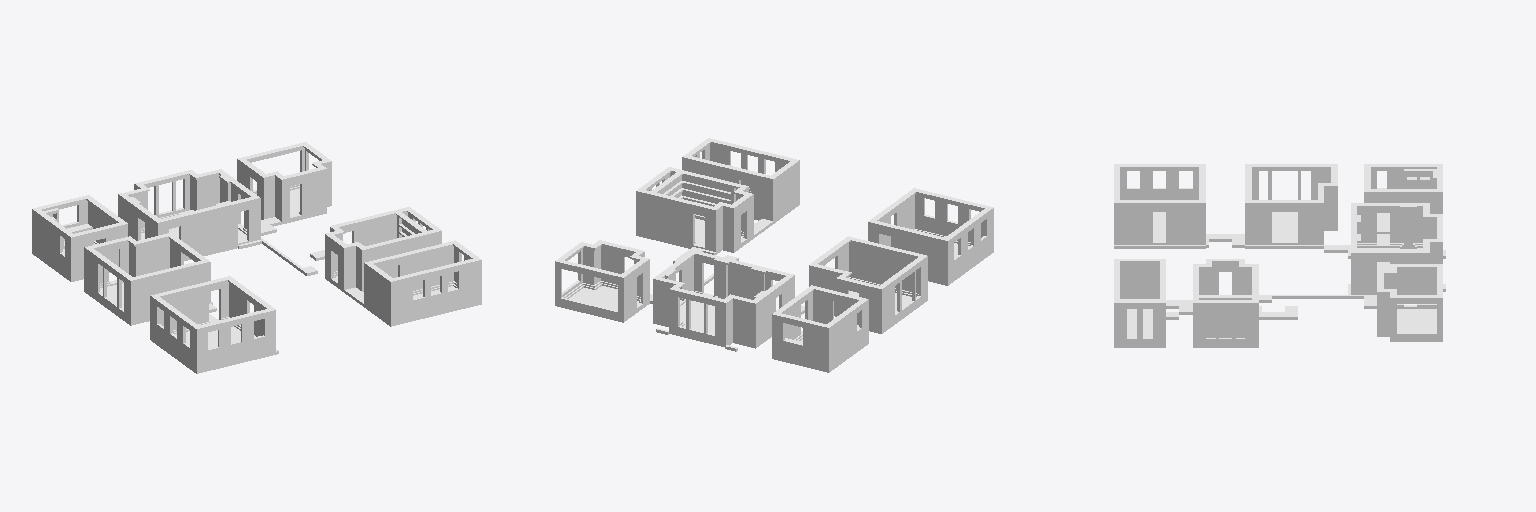
File: Mansion 2.obj
3 renders of one model, left to right at view 1: azimuth 30°, elevation 25°; view 2: azimuth 150°, elevation 25°; view 3: azimuth 270°, elevation 25°, orthographic.
Visible parts, largest first — view 1: Unity__-225_-60_87_to_-124_-40_188; view 2: Unity__-225_-60_87_to_-124_-40_188; view 3: Unity__-225_-60_87_to_-124_-40_188.
Boxes of the visible parts, x1,y1,x2,y2 form: Unity__-225_-60_87_to_-124_-40_188: [32, 142, 481, 373]; Unity__-225_-60_87_to_-124_-40_188: [555, 138, 993, 372]; Unity__-225_-60_87_to_-124_-40_188: [1114, 164, 1445, 347].
Size of the model in its own units: 100 by 15 by 101.